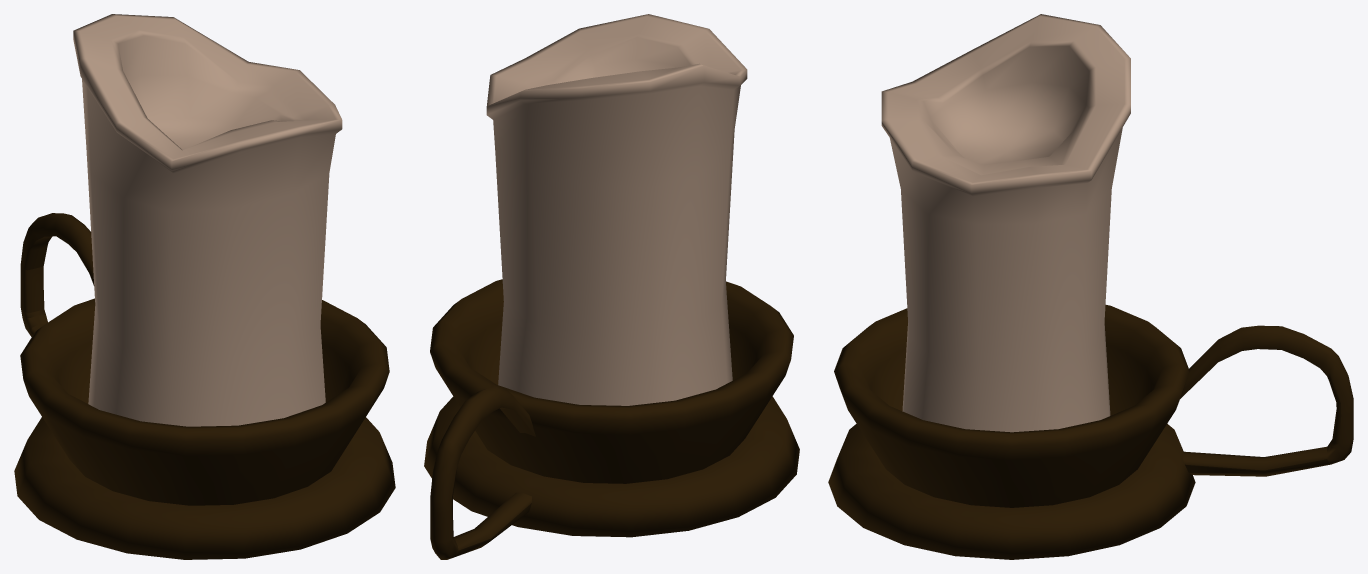
The model's file is candle.fbx.
The picture shows the model from 3 angles, left to right: view 1: azimuth 30°, elevation 25°; view 2: azimuth 150°, elevation 25°; view 3: azimuth 270°, elevation 25°; orthographic projection. The views are drawn at different scales.
Parts seen in each view (by area): view 1: kaars, bakje, handle; view 2: kaars, bakje, handle; view 3: kaars, bakje, handle.
Boxes of the visible parts, x1,y1,x2,y2 form: kaars: (73,14,342,426); bakje: (14,298,395,559); handle: (20,213,94,336); kaars: (486,14,747,405); bakje: (424,279,799,537); handle: (430,385,535,559); kaars: (881,14,1130,432); bakje: (828,305,1195,559); handle: (1180,325,1353,476).
Bounding box in the file's own units: 2.13 × 2.67 × 3.05.
